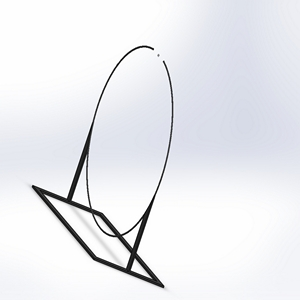circle: (29, 42, 176, 289)
